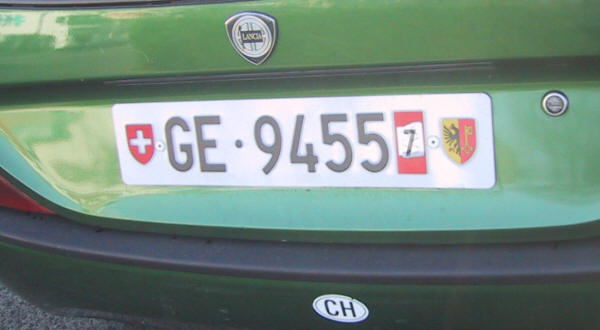license_plate: (113, 90, 498, 185)
